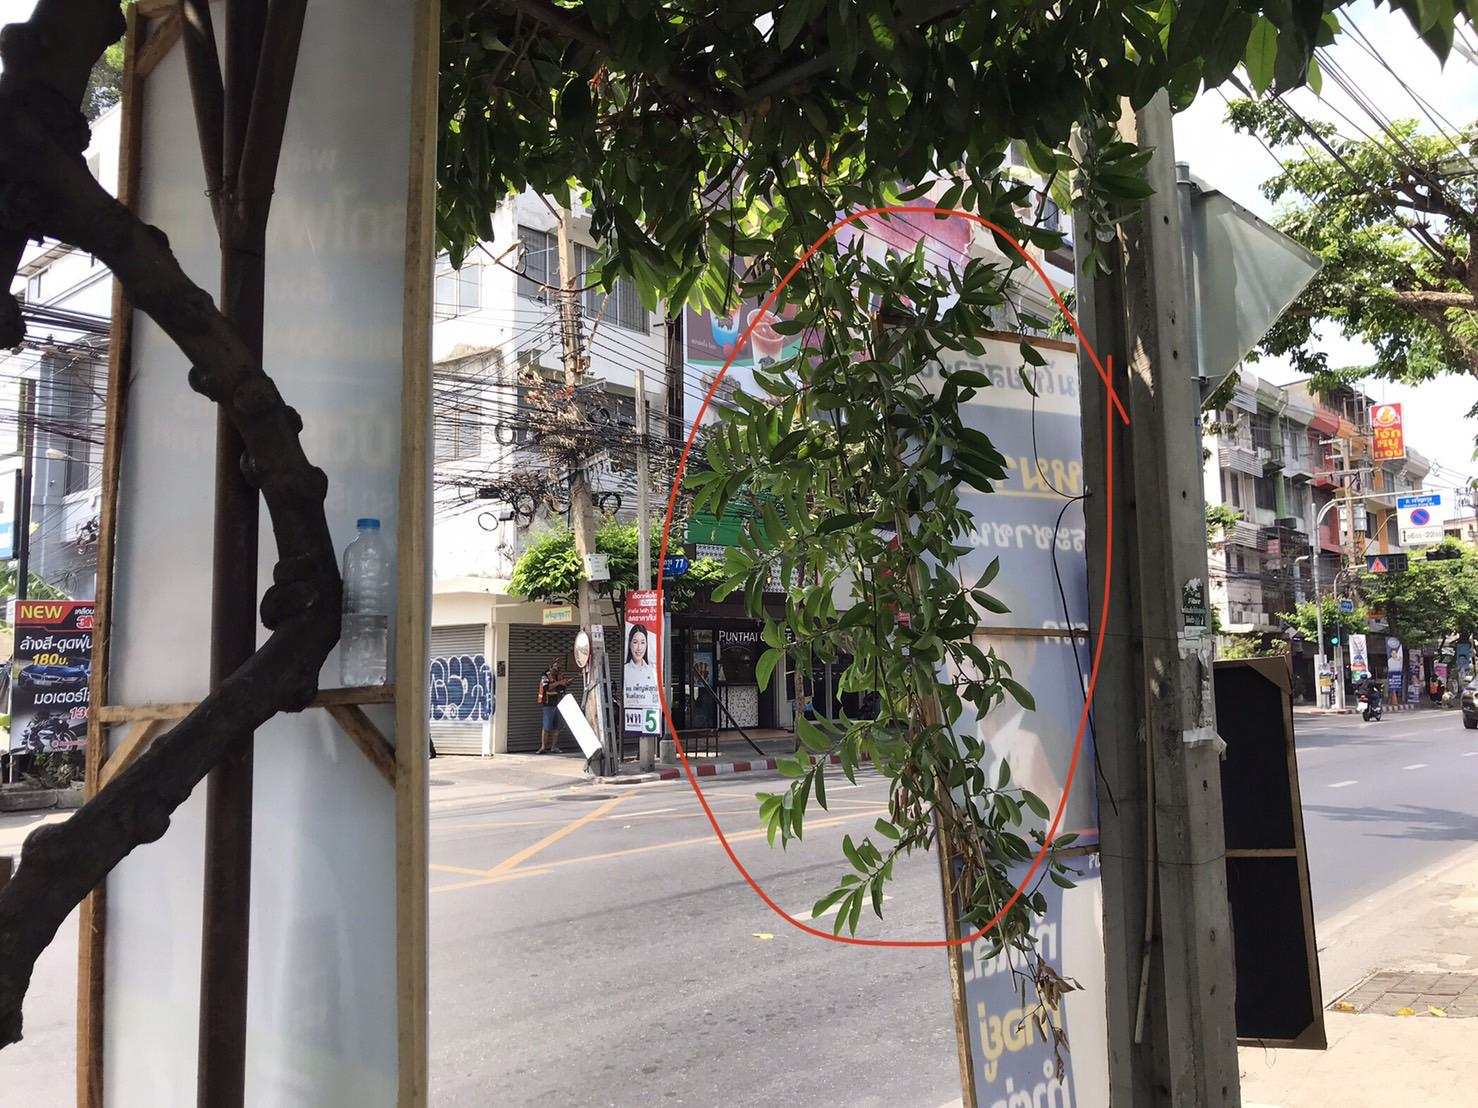Banner: (614, 590, 673, 733)
